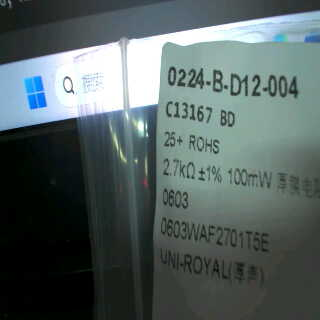2.7kR: (163, 153, 194, 184)
